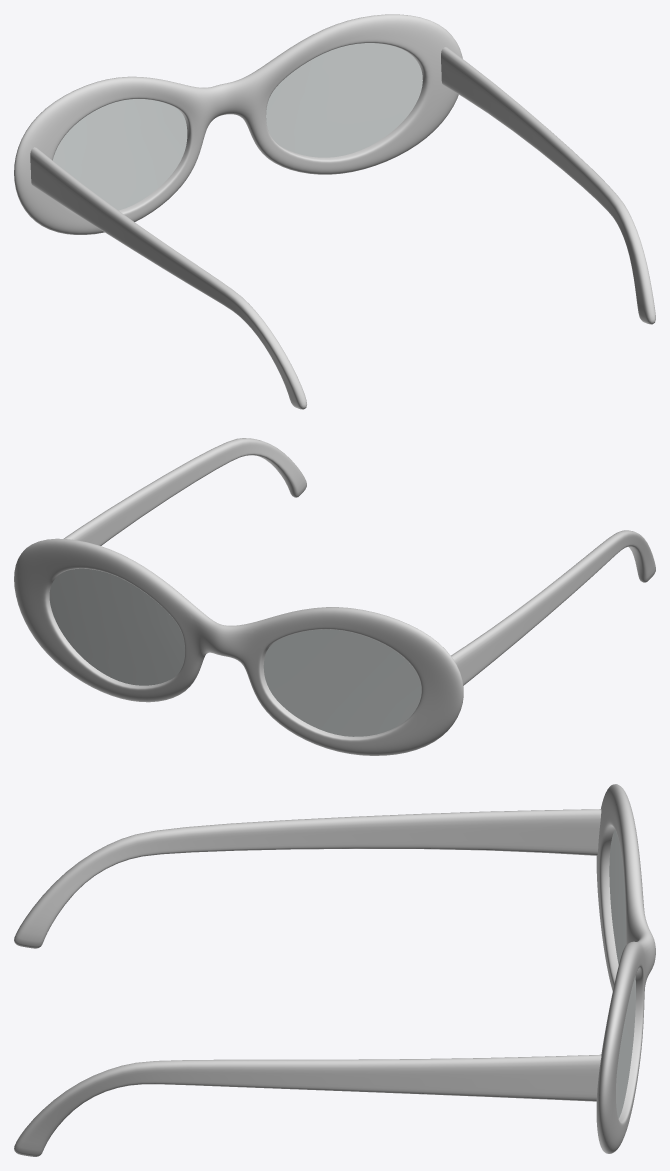
Rendered from item-sunglasses-4.glb.
The picture shows the model from 3 angles, top to bottom: view 1: azimuth 30°, elevation 25°; view 2: azimuth 150°, elevation 25°; view 3: azimuth 270°, elevation 25°; orthographic projection. The views are drawn at different scales.
Bounding box in the file's own units: 1.27 × 0.4007 × 1.28.
Materials: 2 (1 with a texture image).
